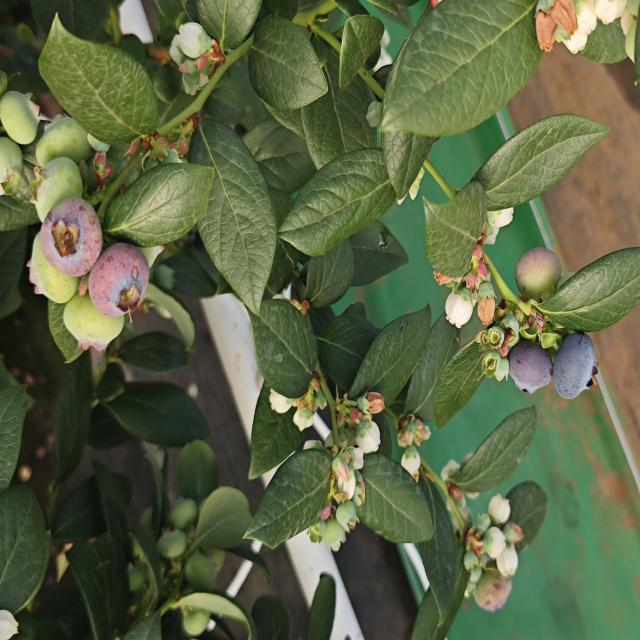ripe: (550, 329, 599, 403), (505, 338, 554, 398)
